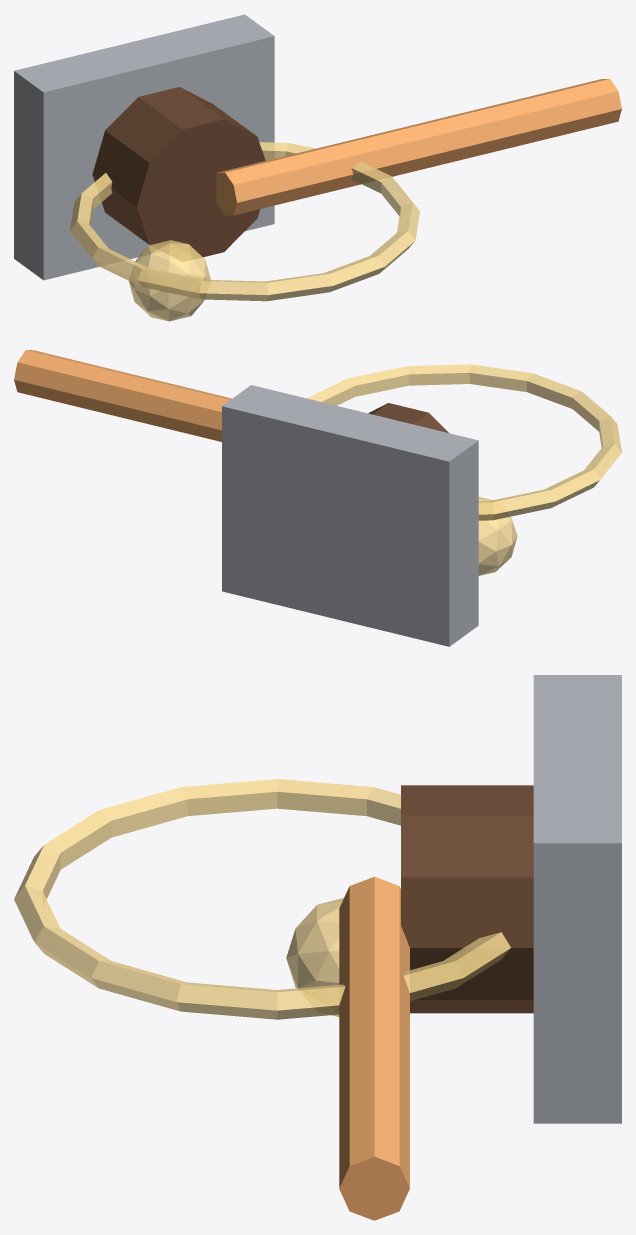
File: 09_skyship_defense.glb
3 renders of one model, top to bottom at view 1: azimuth 30°, elevation 25°; view 2: azimuth 150°, elevation 25°; view 3: azimuth 270°, elevation 25°, orthographic. The views are drawn at different scales.
Visible parts, largest first — view 1: weapon_mount_base, turret_pivot, cannon_barrel, shield_projector_ring, targeting_core; view 2: weapon_mount_base, shield_projector_ring, cannon_barrel, targeting_core, turret_pivot; view 3: weapon_mount_base, turret_pivot, shield_projector_ring, cannon_barrel, targeting_core.
Part boxes in pixels (<box>): weapon_mount_base: <box>14,14,274,280</box>; turret_pivot: <box>92,87,265,261</box>; cannon_barrel: <box>216,79,621,215</box>; shield_projector_ring: <box>70,142,419,301</box>; targeting_core: <box>129,240,210,321</box>; weapon_mount_base: <box>222,385,478,646</box>; shield_projector_ring: <box>307,364,621,520</box>; cannon_barrel: <box>14,350,231,441</box>; targeting_core: <box>478,497,517,575</box>; turret_pivot: <box>368,403,448,432</box>; weapon_mount_base: <box>533,675,621,1123</box>; turret_pivot: <box>401,785,533,1013</box>; shield_projector_ring: <box>14,779,510,1019</box>; cannon_barrel: <box>339,876,409,1220</box>; targeting_core: <box>286,898,343,1016</box>.
Size of the model in its own units: 1.18 by 0.4015 by 0.7568.
